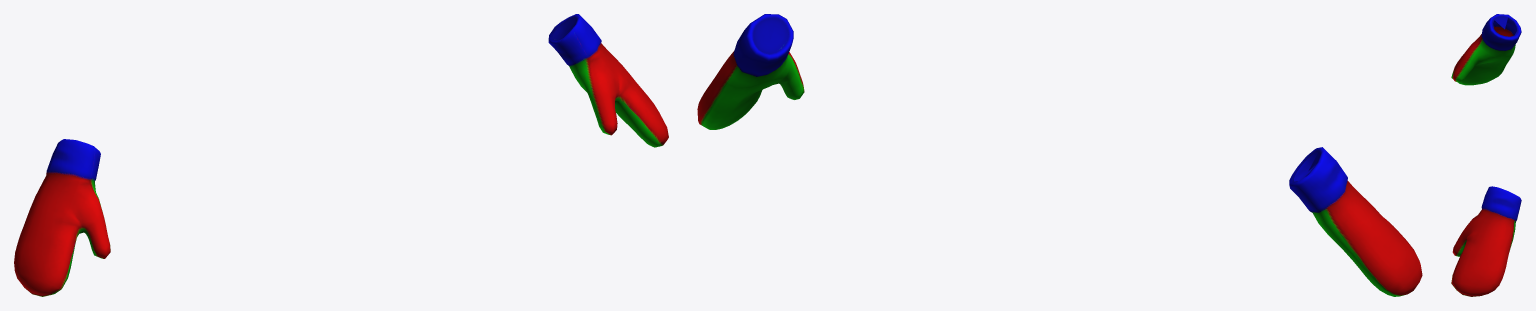
File: Outfit_Gloves_UniMitten.obj
3 views of the same model, side by side, from view 1: azimuth 30°, elevation 25°; view 2: azimuth 150°, elevation 25°; view 3: azimuth 270°, elevation 25° (orthographic). The views are drawn at different scales.
Visible parts, largest first — view 1: Outfit_Gloves_UniMitten_0; view 2: Outfit_Gloves_UniMitten_0; view 3: Outfit_Gloves_UniMitten_0.
Boxes of the visible parts, left/top/right/bottom form: Outfit_Gloves_UniMitten_0: left=14, top=14, right=668, bottom=296; Outfit_Gloves_UniMitten_0: left=697, top=14, right=1422, bottom=296; Outfit_Gloves_UniMitten_0: left=1451, top=14, right=1521, bottom=296.
Bounding box in the file's own units: 1.08 × 0.2056 × 0.1462.
1 material, 1 textured.
